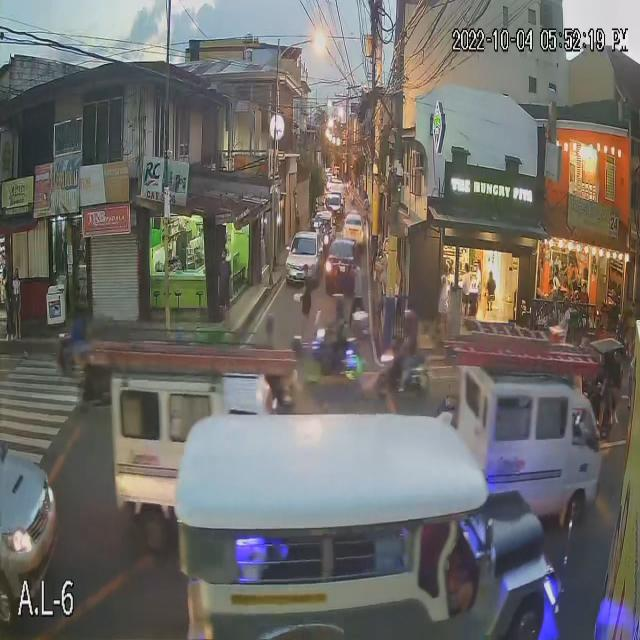helmet: (401, 309, 419, 331)
motorcycle: (306, 337, 364, 385), (374, 350, 430, 398)
rider: (326, 306, 355, 364), (391, 330, 419, 378)
